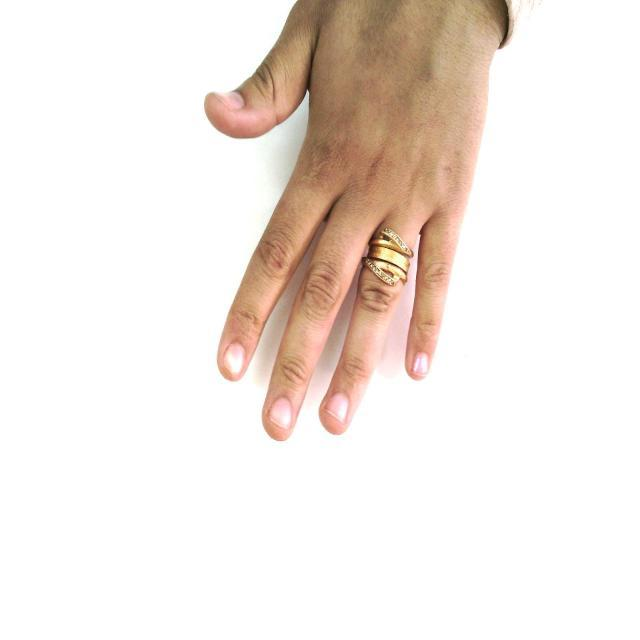Fingernail: (323, 392, 349, 422), (223, 342, 245, 375), (269, 398, 292, 428), (214, 92, 245, 111), (411, 353, 428, 376)
